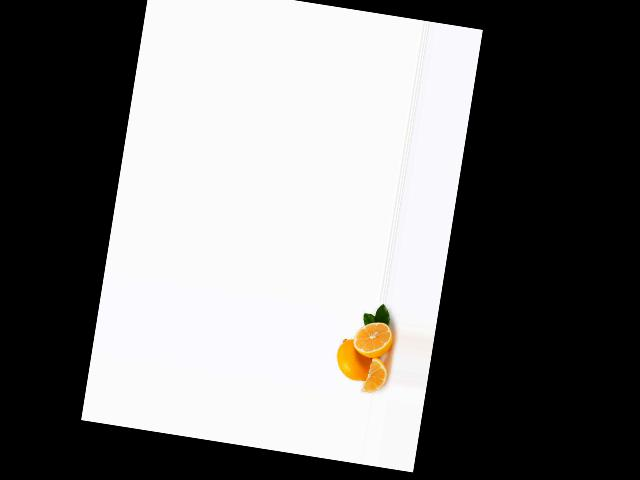lemon: (333, 334, 380, 384)
